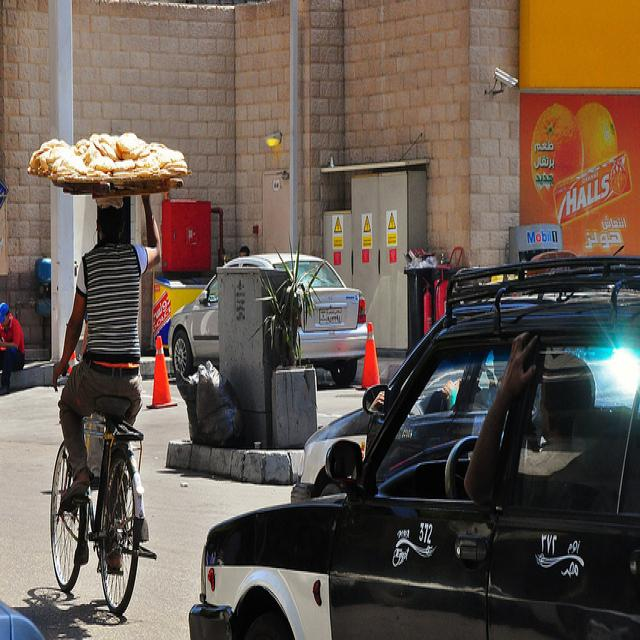Vehicle: (188, 257, 640, 640), (288, 308, 448, 502), (166, 252, 368, 384)
